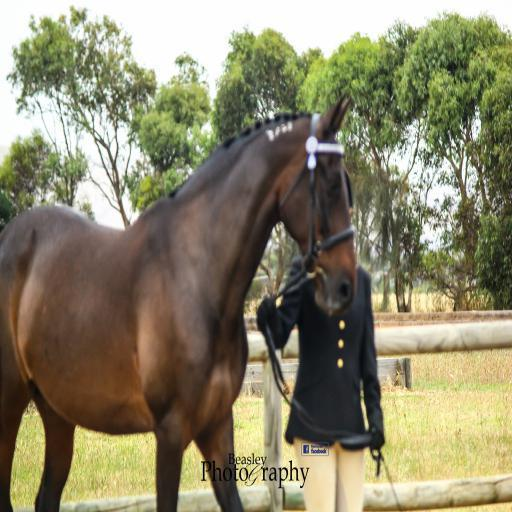horse: (1, 98, 370, 512)
